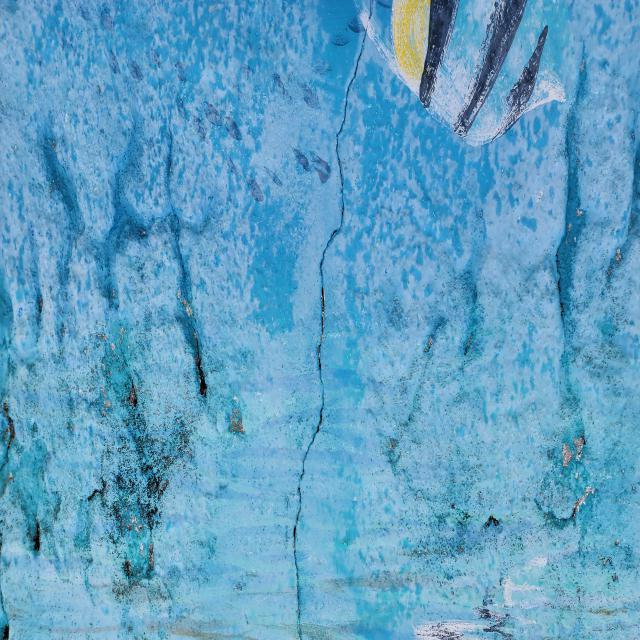SurfaceCrack: (251, 0, 419, 640), (78, 157, 246, 639)
